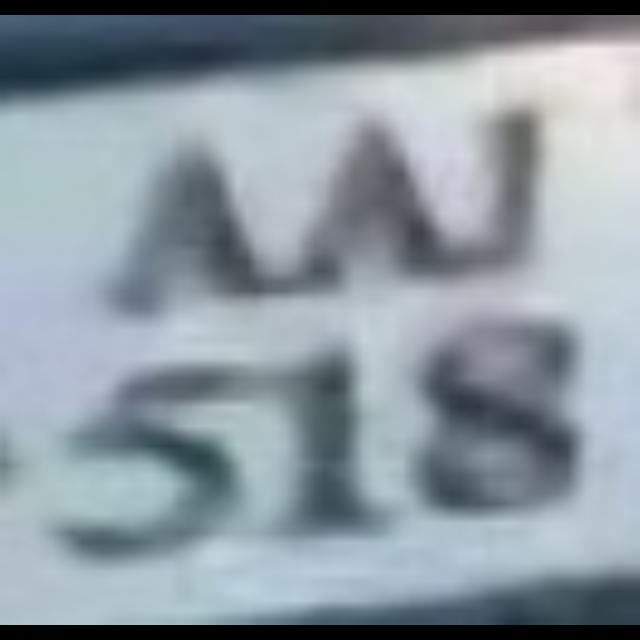1: (242, 334, 416, 584)
5: (36, 342, 240, 584)
8: (414, 332, 618, 574)
A: (36, 104, 284, 320), (310, 101, 442, 315)
J: (441, 100, 573, 314)
